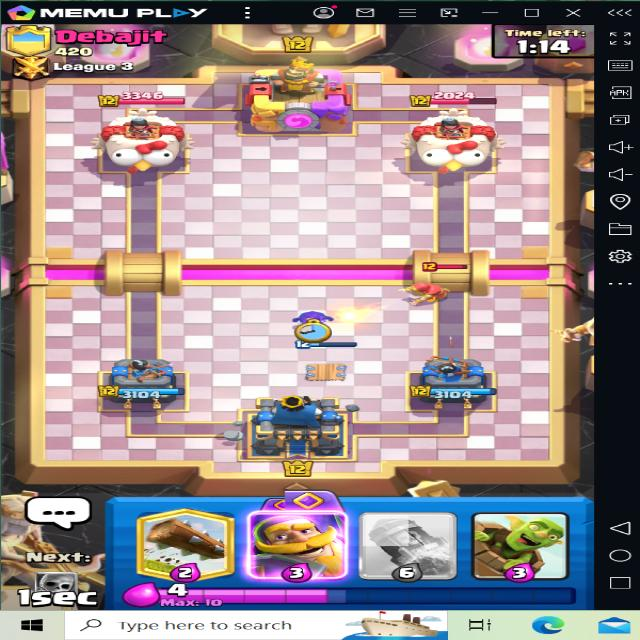wizard: (409, 256, 468, 308)
